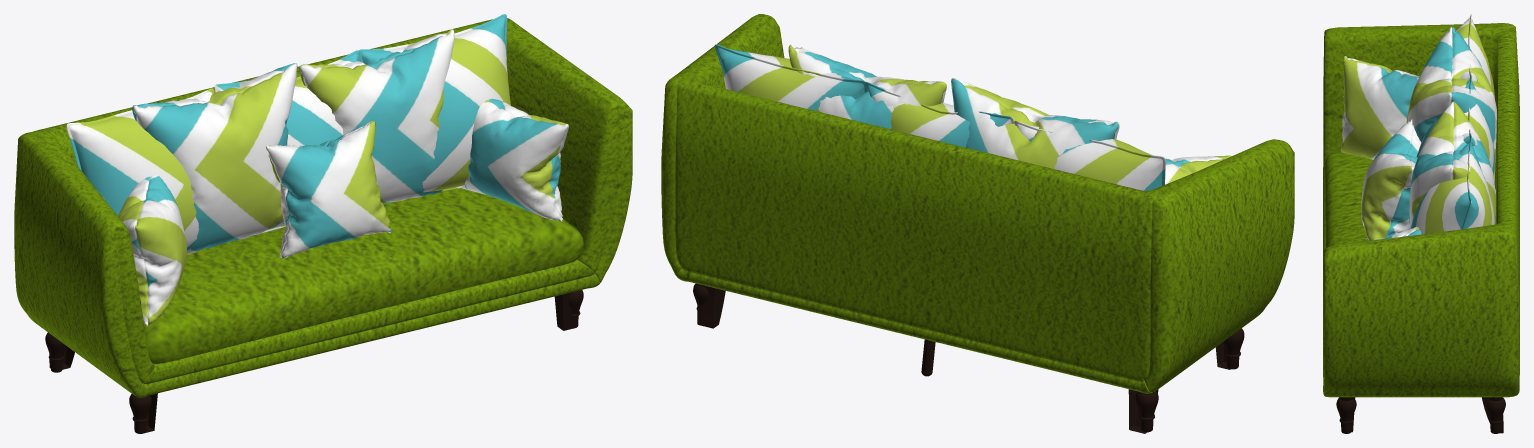
The picture shows the model from 3 angles, left to right: view 1: azimuth 30°, elevation 25°; view 2: azimuth 150°, elevation 25°; view 3: azimuth 270°, elevation 25°; orthographic projection. The views are drawn at different scales.
Visible parts, largest first — view 1: pillow_02_geo, couch, seat, pillow_01_geo, Legs_02_geo, Legs_01_geo; view 2: couch, pillow_02_geo, pillow_01_geo, Legs_01_geo, Legs_02_geo; view 3: couch, pillow_02_geo, pillow_01_geo, seat, Legs_02_geo, Legs_01_geo.
Part boxes in pixels (x1,y1,x2,y2): pillow_02_geo: [118, 29, 568, 326]; couch: [14, 18, 632, 397]; seat: [144, 188, 583, 363]; pillow_01_geo: [66, 14, 510, 250]; Legs_02_geo: [45, 290, 583, 433]; Legs_01_geo: [49, 290, 578, 432]; couch: [661, 14, 1294, 393]; pillow_02_geo: [788, 44, 1231, 184]; pillow_01_geo: [714, 44, 1165, 191]; Legs_01_geo: [697, 284, 1230, 433]; Legs_02_geo: [693, 283, 1244, 432]; couch: [1323, 23, 1519, 397]; pillow_02_geo: [1340, 27, 1496, 240]; pillow_01_geo: [1411, 14, 1494, 234]; seat: [1324, 152, 1373, 247]; Legs_02_geo: [1336, 397, 1505, 433]; Legs_01_geo: [1339, 397, 1503, 433].
Bounding box in the file's own units: 2.09 × 1.03 × 0.7535.
4 materials, 3 textured.
